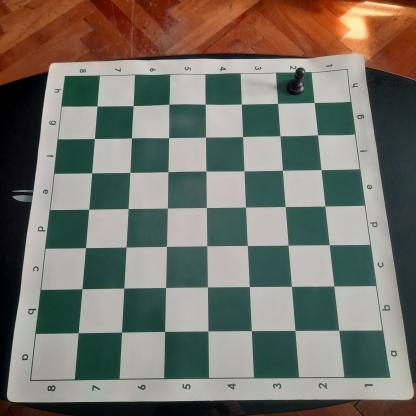black-pawn: (284, 66, 308, 96)
